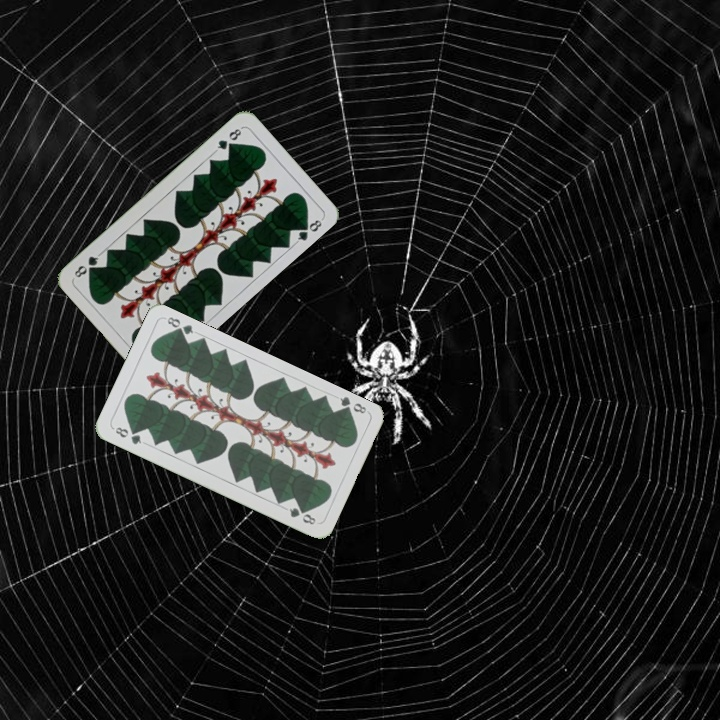G8: (211, 124, 245, 154), (111, 423, 144, 447), (336, 393, 369, 417)
